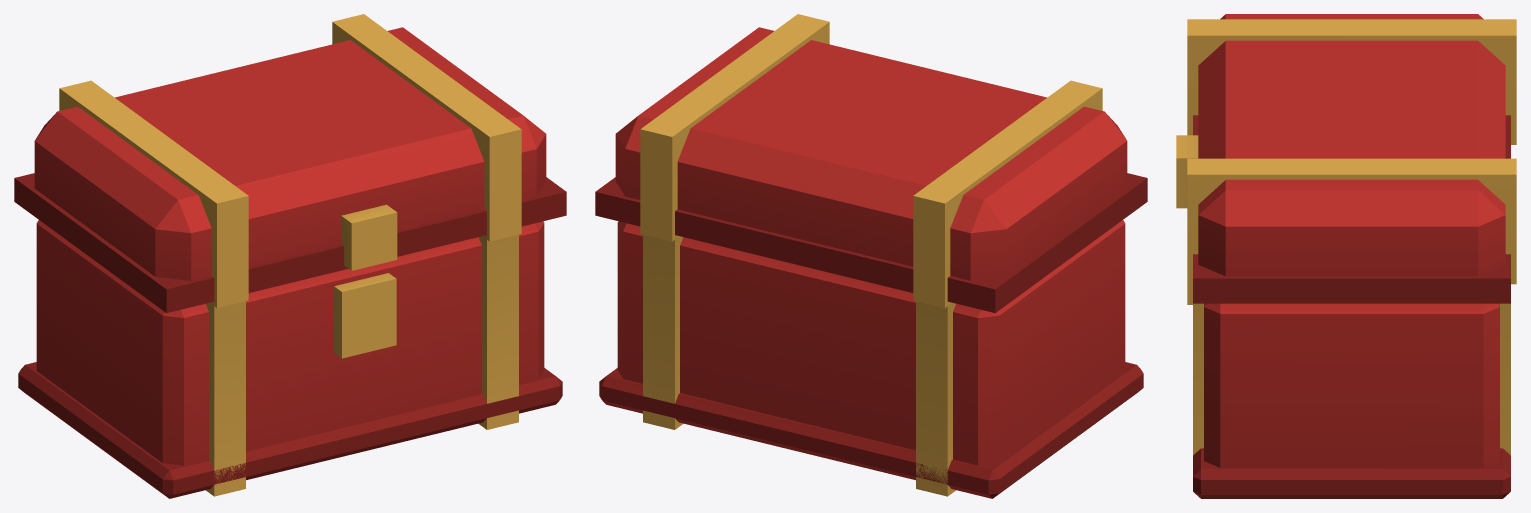
The model's file is chest_red.glb.
3 views of the same model, side by side, from view 1: azimuth 30°, elevation 25°; view 2: azimuth 150°, elevation 25°; view 3: azimuth 270°, elevation 25° (orthographic). The views are drawn at different scales.
Visible parts, largest first — view 1: chest_red.lid, chest_red; view 2: chest_red.lid, chest_red; view 3: chest_red.lid, chest_red.
Part boxes in pixels (left/top/right/bottom): chest_red.lid: left=14, top=14, right=566, bottom=313; chest_red: left=18, top=220, right=562, bottom=498; chest_red.lid: left=595, top=14, right=1147, bottom=313; chest_red: left=599, top=220, right=1143, bottom=498; chest_red.lid: left=1176, top=14, right=1516, bottom=303; chest_red: left=1187, top=284, right=1510, bottom=498.
Bounding box in the file's own units: 0.88 × 0.62 × 0.62.
